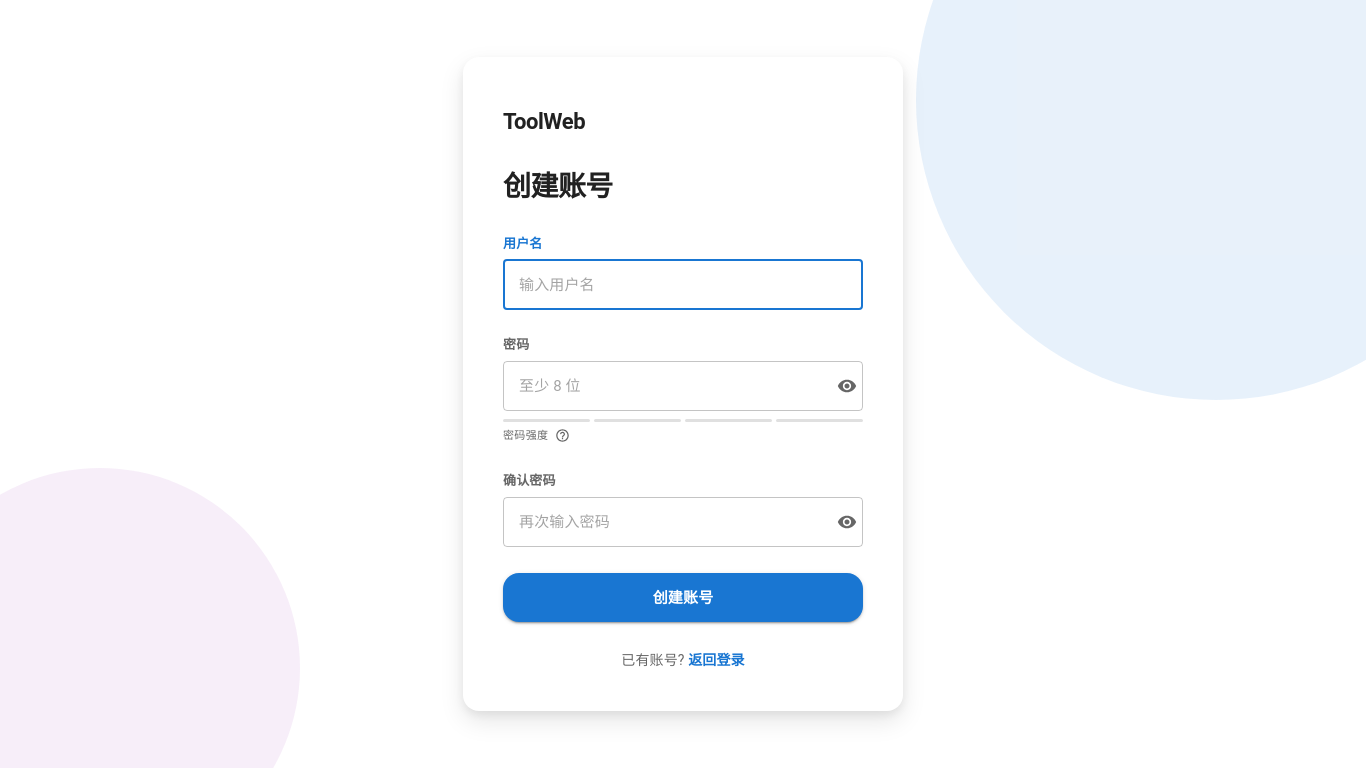
Test: RegisterPage › shows backend duplicate username error
The image size is (1366, 768).
Expected: the number of password fields is 2, [503,361,824,411]; [503,497,824,547]
Expected: the submit button is shown, [503,573,863,622]
In the field with id "register-username": point(683, 285) [503,260,863,310], type "rex"
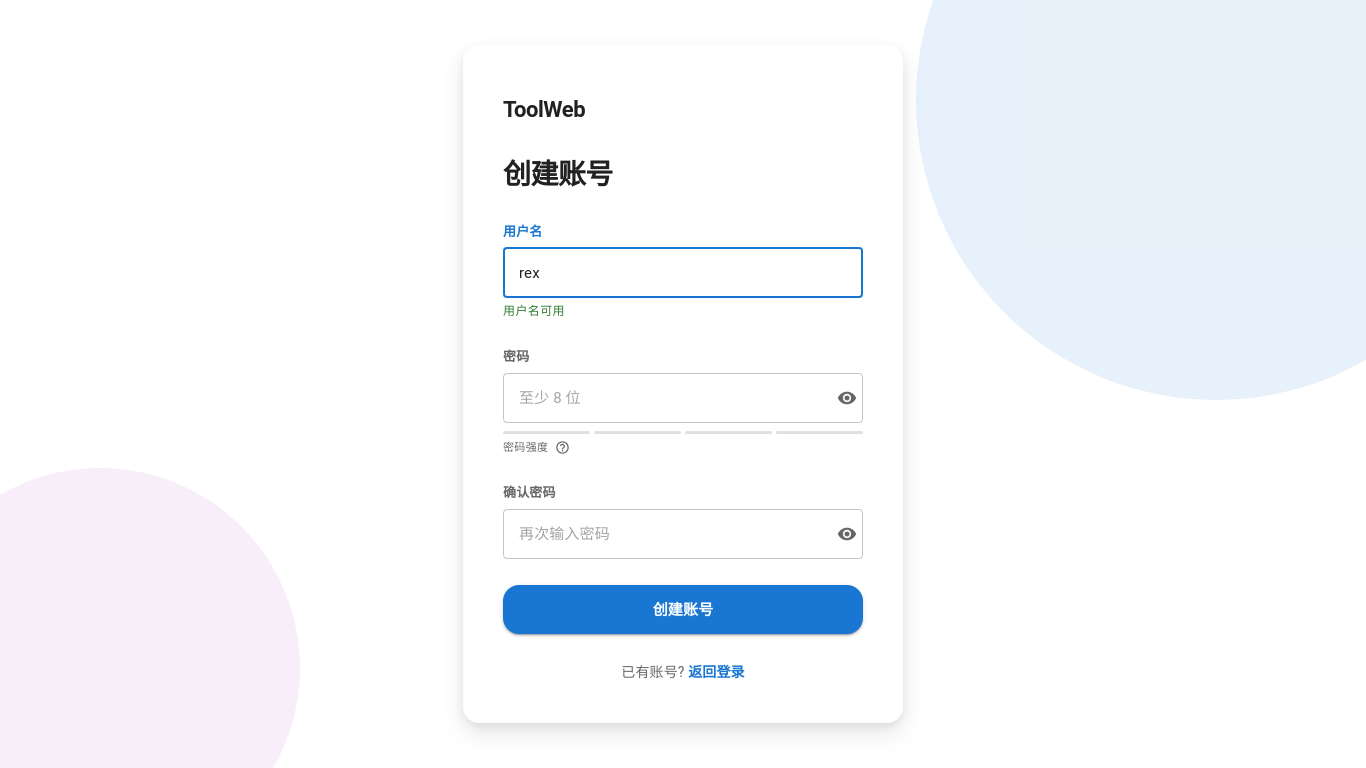
Expected: the text "用户名可用" is shown, [503,304,565,318]
In the password field with placeholder "至少 8 位": point(664, 398) [503,373,824,423], type "secret123"
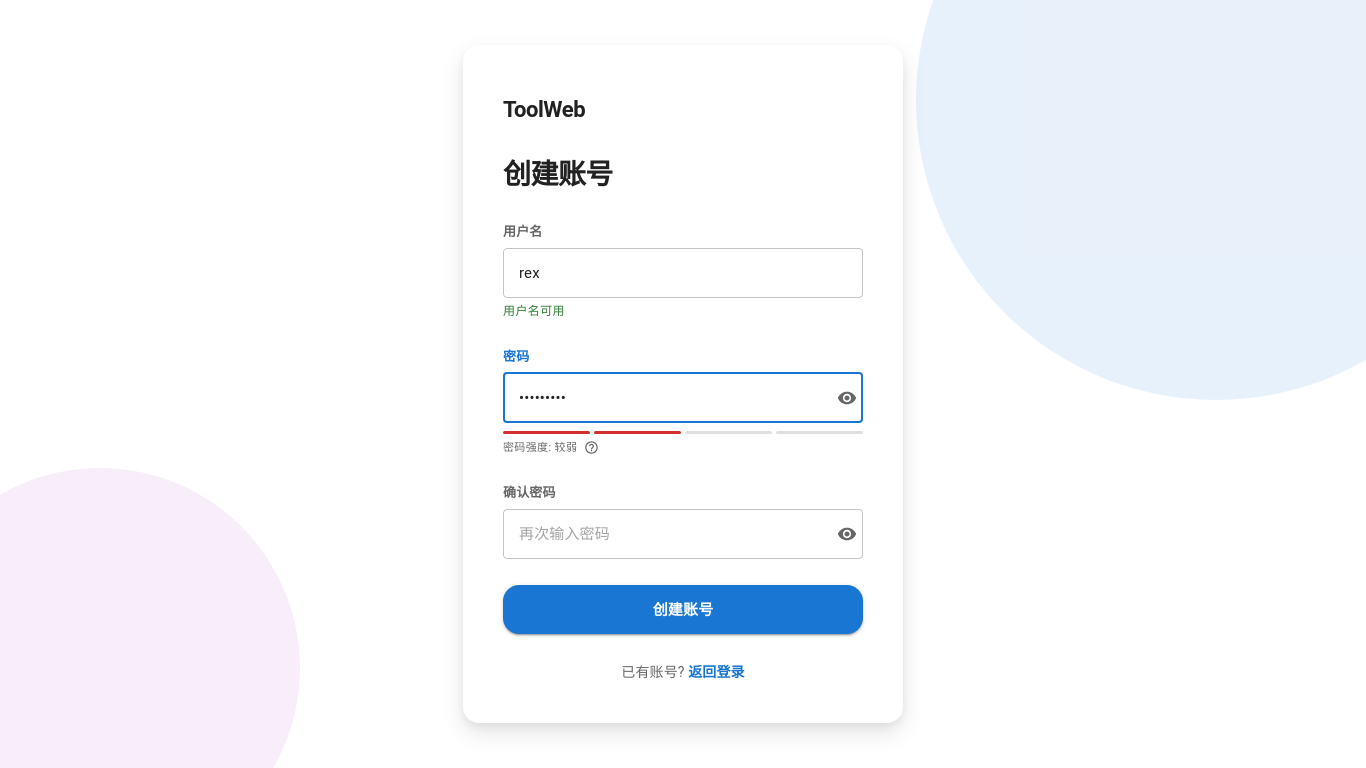
In the password field with placeholder "再次输入密码": point(664, 534) [503,509,824,559], type "secret123"
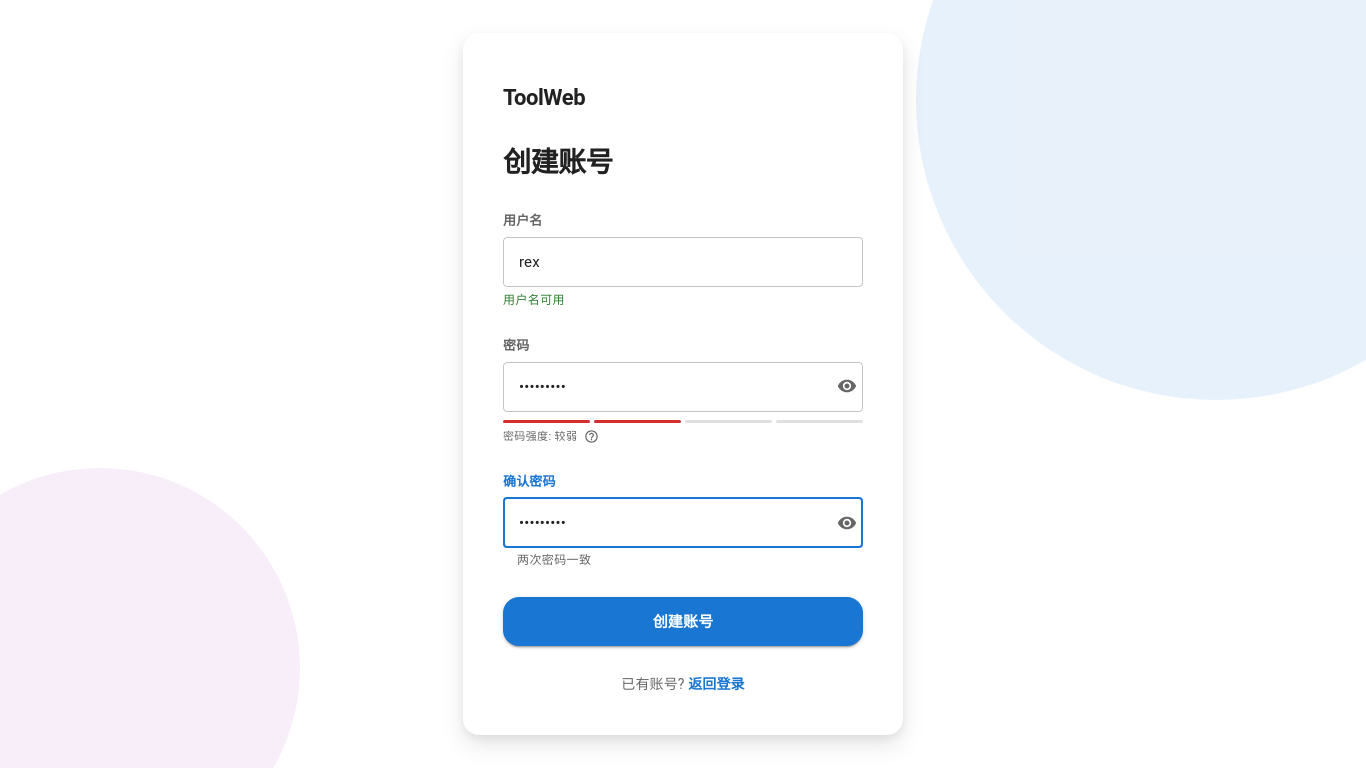
Click the submit button: point(683, 621) [503,597,863,646]
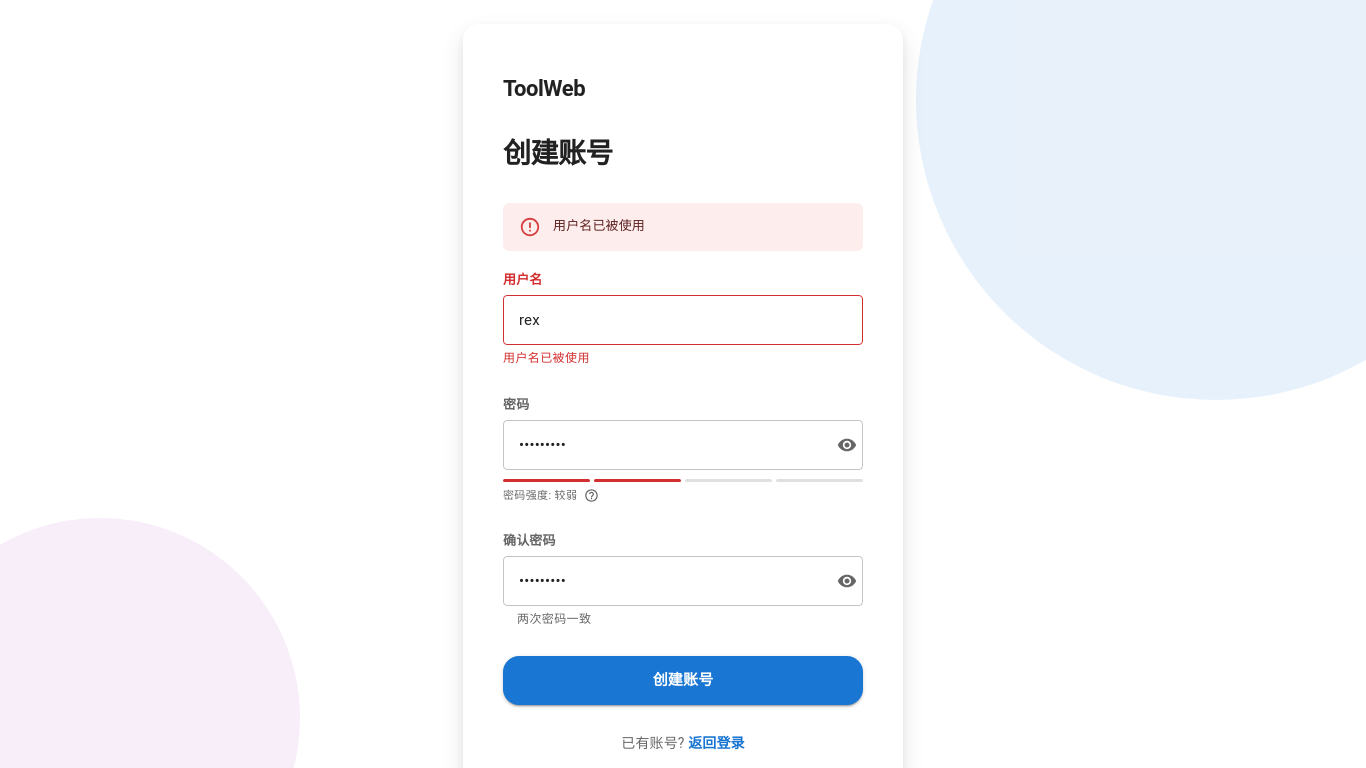
Expected: the message "用户名已被使用" is shown, [503,203,863,251]
